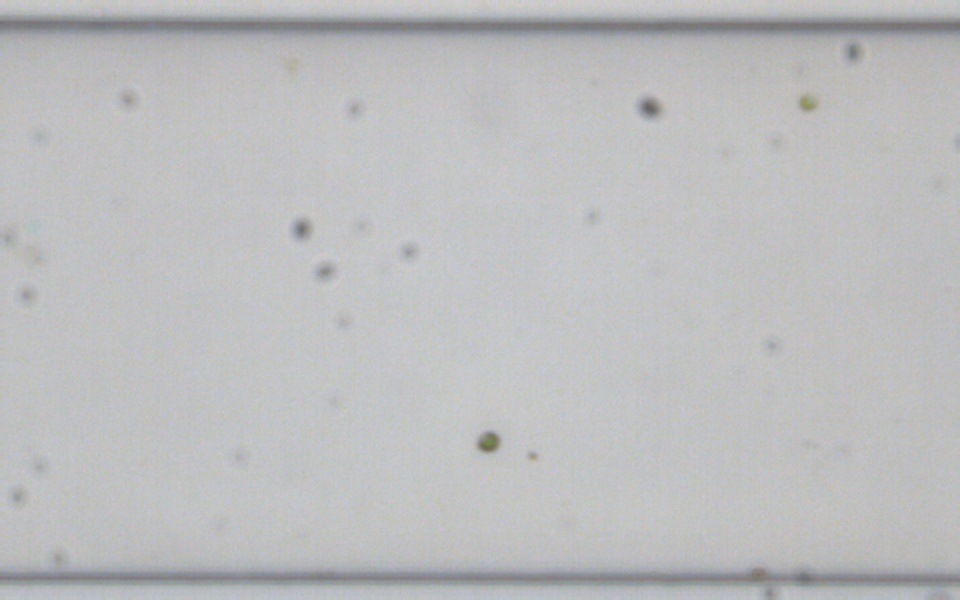Chlorella: (475, 429, 499, 452), (797, 93, 817, 112)
